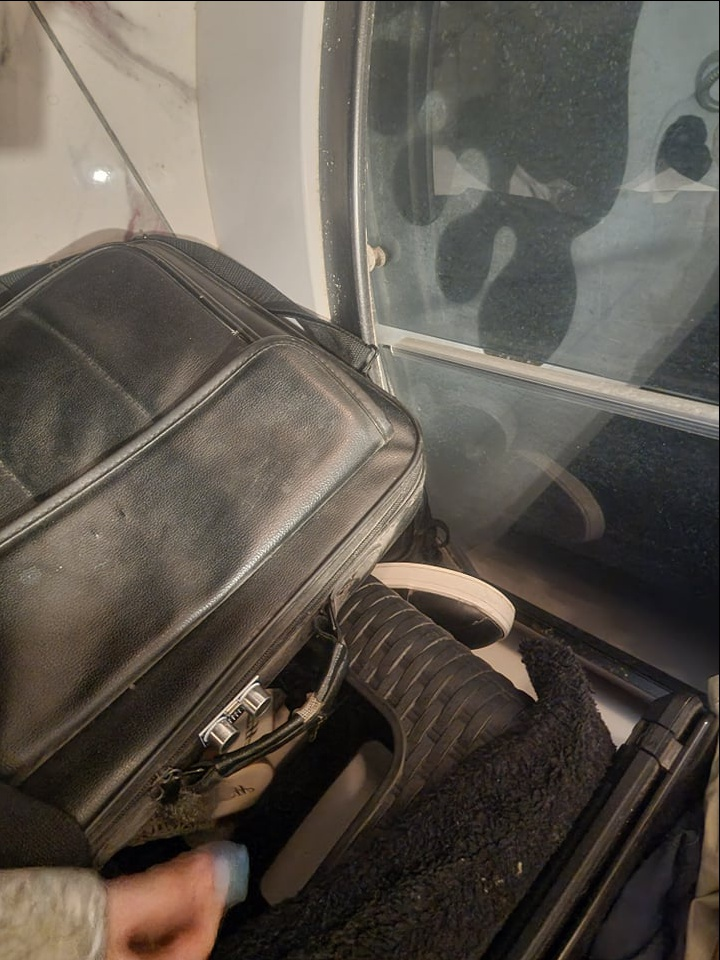SENSOR: (203, 667, 276, 758)
